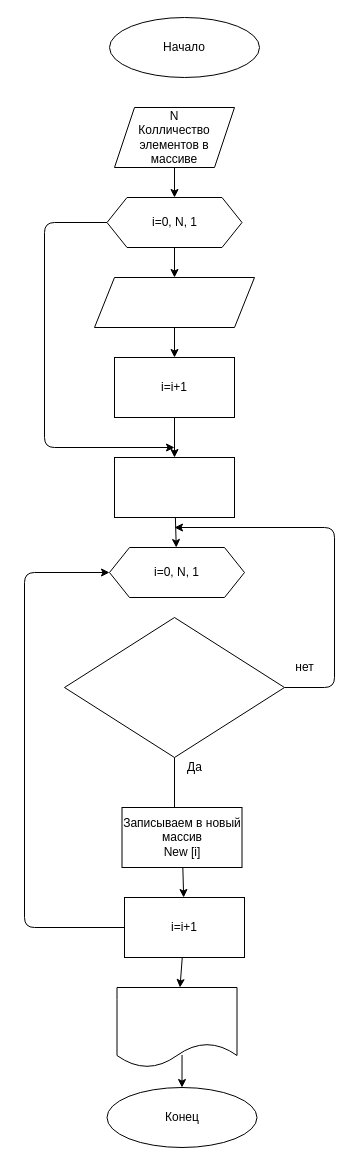
The diagram is 360 pixels wide and 1165 high, and some of its shapes have lost their labels. Each missing label, with the centre of its shape:
Cколько символов в строке N <=3: (174,687)
Print New [i]: (176,1027)
вводим элементы массива a[i]: (174,302)
Преобразуем элементы массива в строки: (174,487)
